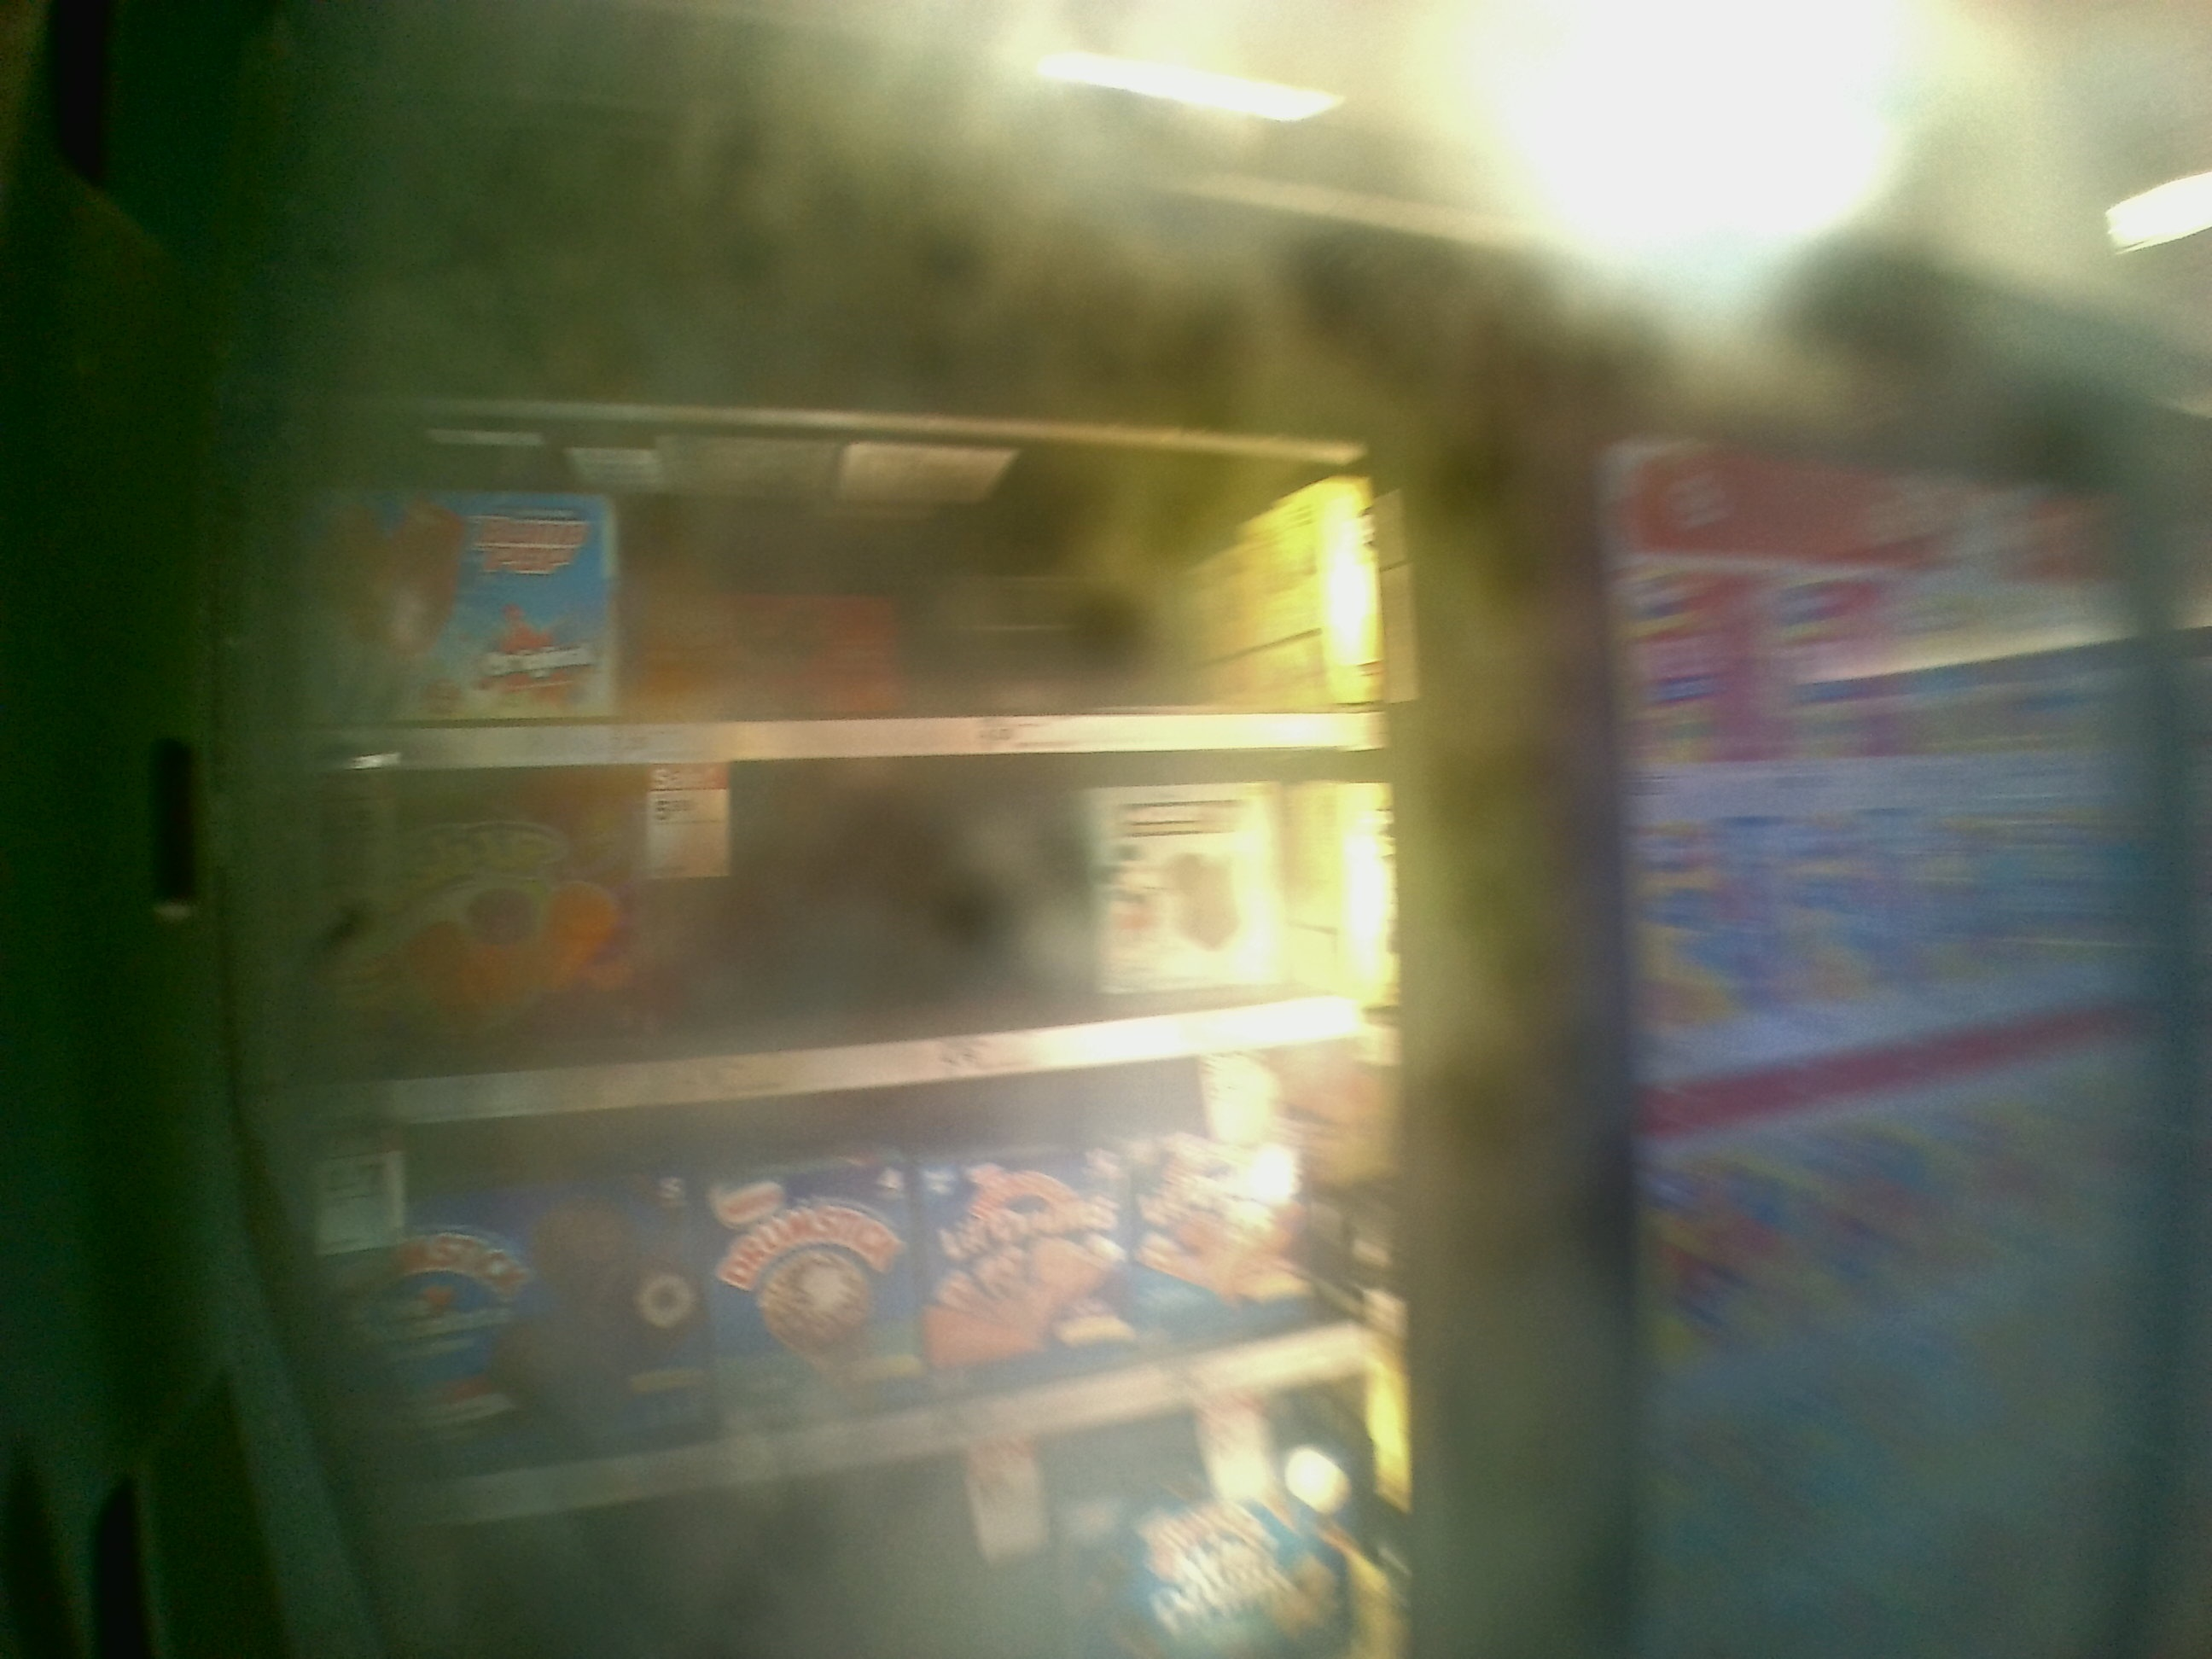shelf: (289, 404, 1406, 769), (289, 767, 1418, 1121)
